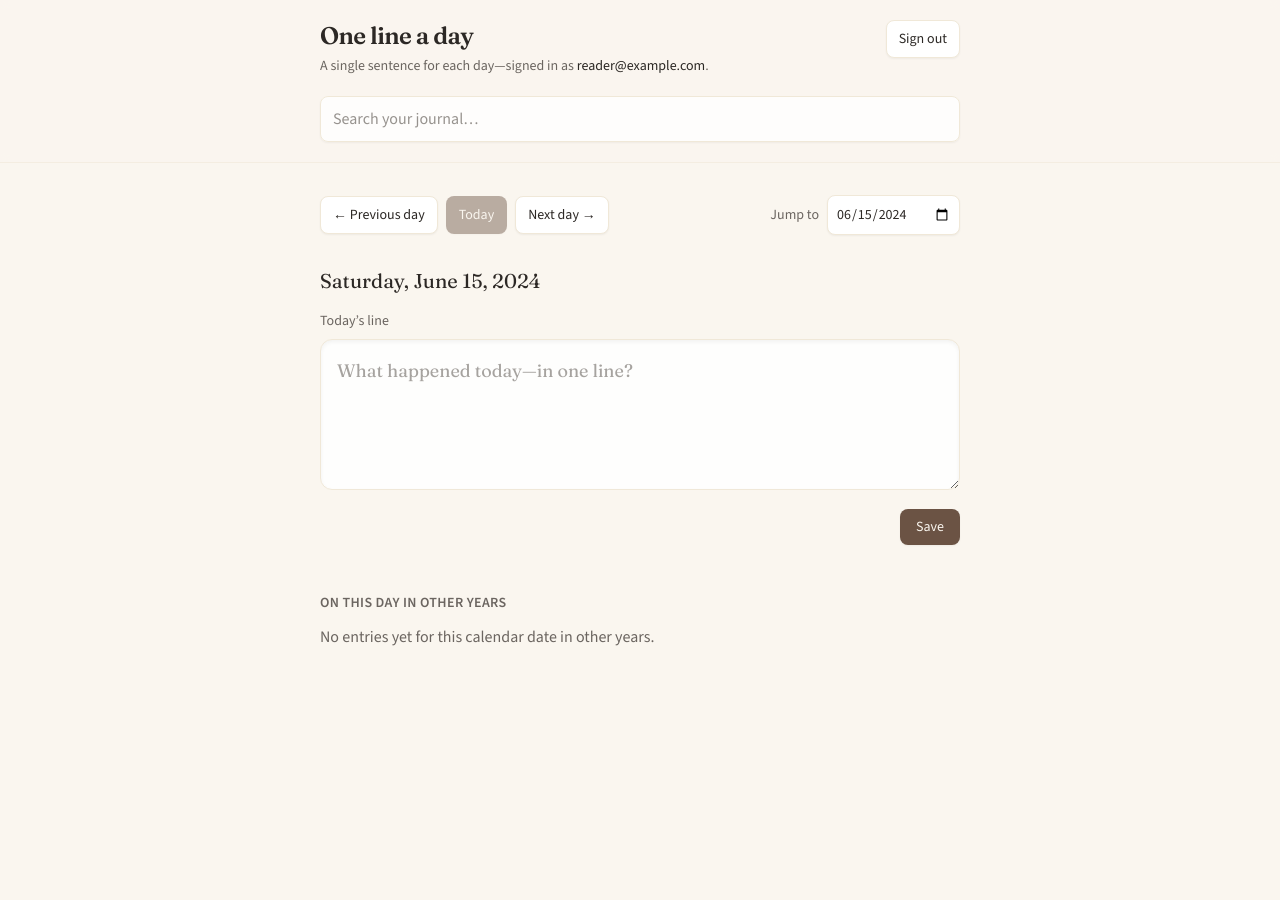
Test: App › moves the selected day with navigation controls
Expected: the date field labelled "Jump to" holds "2024-06-15", 827,195 -> 960,235
Click the button "← Previous day" at (379, 215), box 320,196 -> 438,234
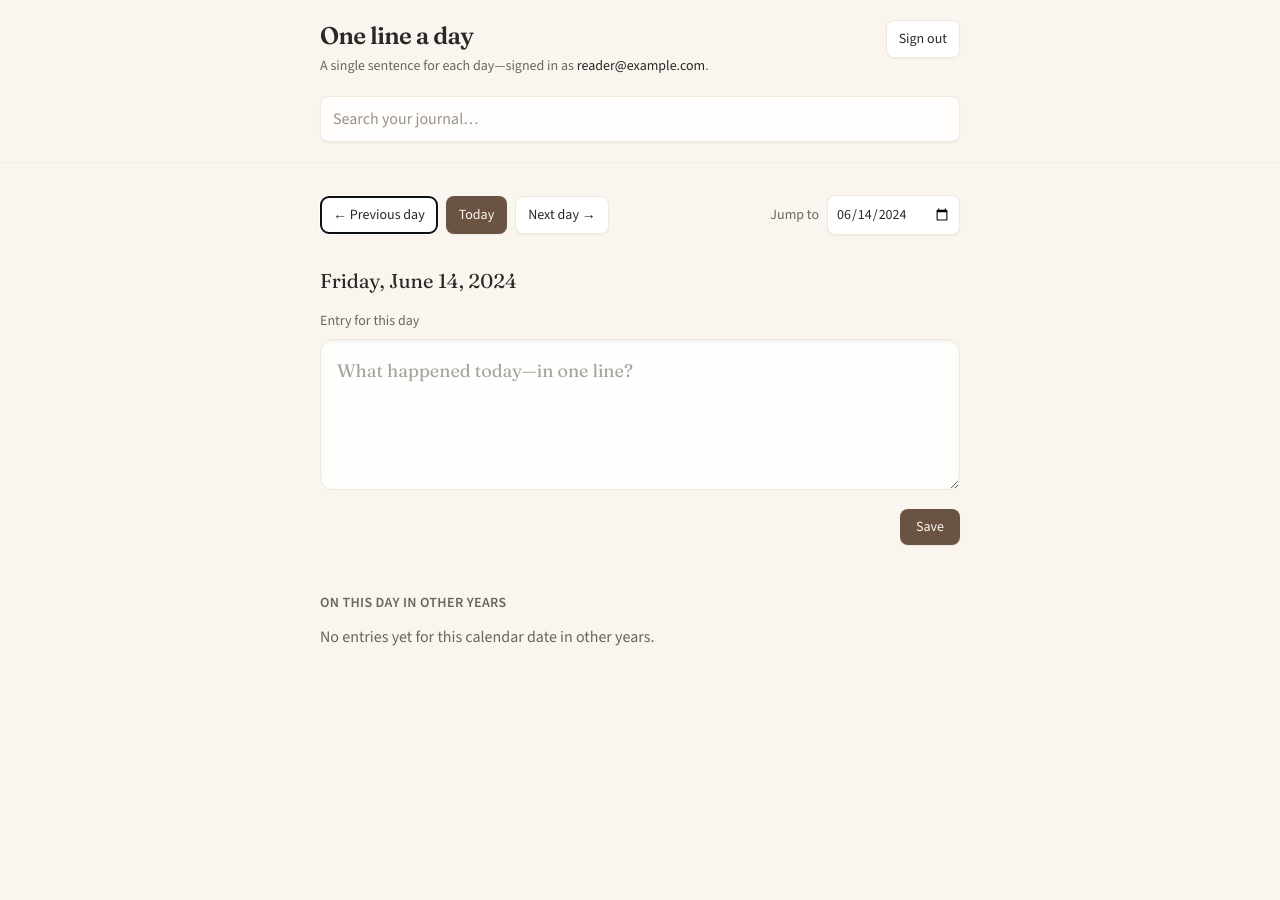
Expected: the date field labelled "Jump to" holds "2024-06-14", 827,195 -> 960,235
Click the button "Next day →" at (562, 215), box 515,196 -> 609,234
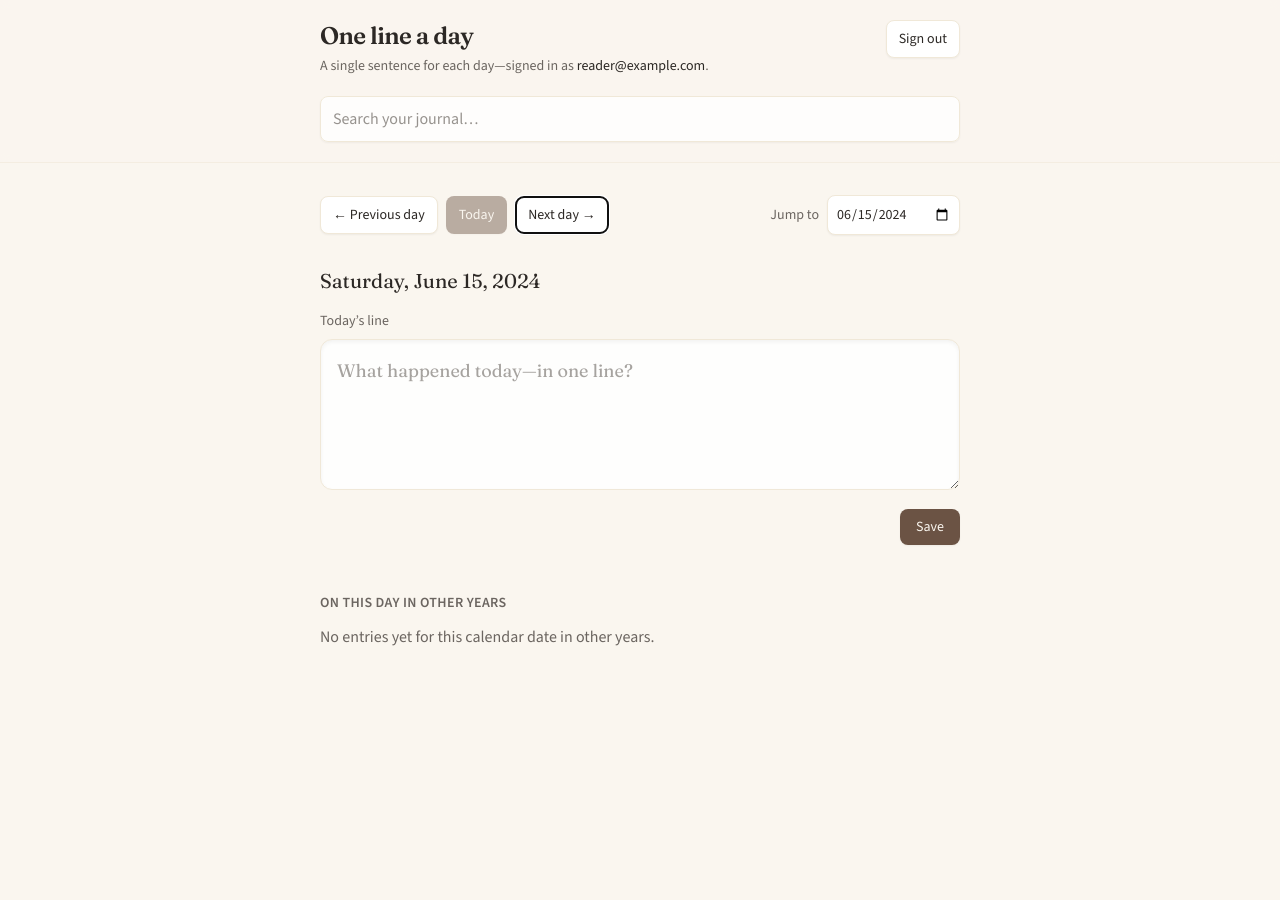
Expected: the date field labelled "Jump to" holds "2024-06-15", 827,195 -> 960,235
